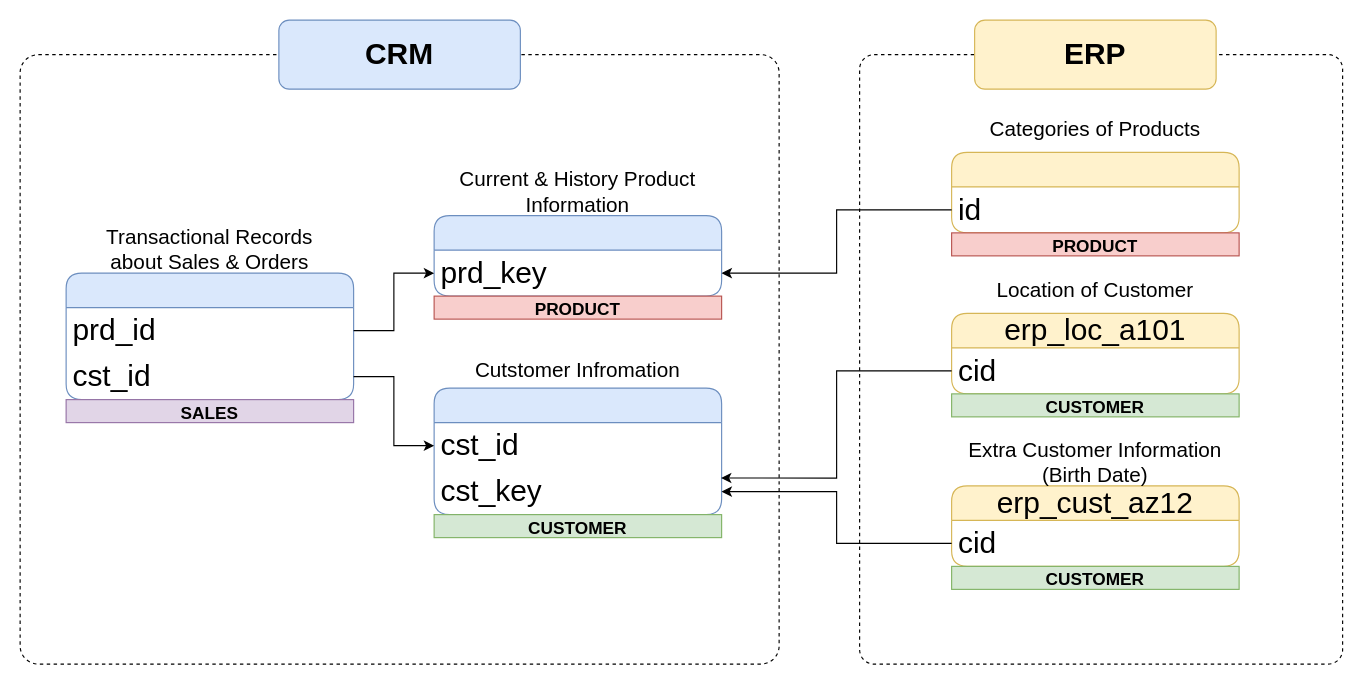
Image size: 1363x684. Some labels were removed from this diagram. Here are the shapes that lost their labels. From the top down, the box of each, then its label:
(950, 151, 1239, 233): erp_px_cat_g1v2
(433, 214, 722, 296): crm_prd_info
(65, 272, 354, 400): crm_sales_details
(433, 387, 722, 515): crm_cust_info
